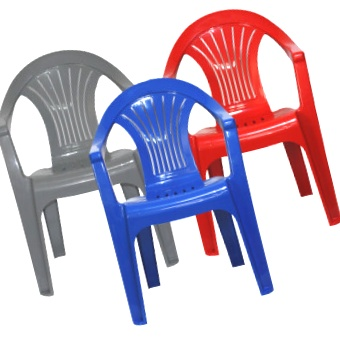plastic: (89, 81, 273, 325)
